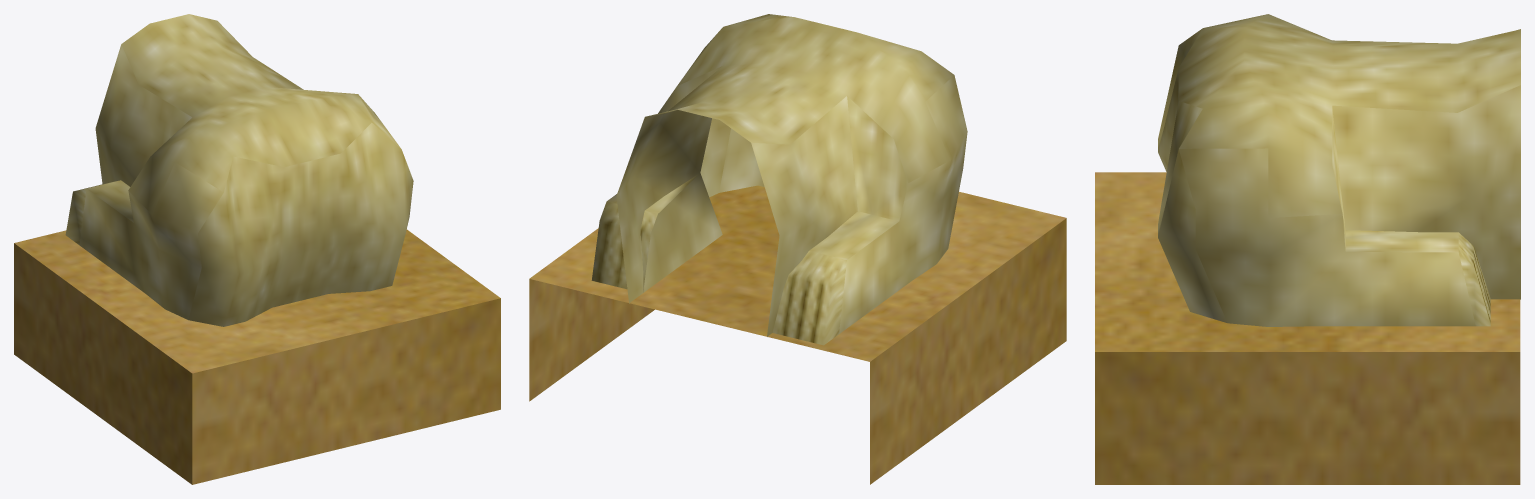
File: egy_sphinx_tail_ns.obj
3 views of the same model, side by side, from view 1: azimuth 30°, elevation 25°; view 2: azimuth 150°, elevation 25°; view 3: azimuth 270°, elevation 25° (orthographic). The views are drawn at different scales.
Parts seen in each view (by area): view 1: tile_boundary02; view 2: tile_boundary02; view 3: tile_boundary02.
Part boxes in pixels (x1=…): tile_boundary02: x1=14, y1=14, x2=500, y2=484; tile_boundary02: x1=529, y1=14, x2=1066, y2=484; tile_boundary02: x1=1095, y1=14, x2=1520, y2=484.
Bounding box in the file's own units: 1 × 0.9213 × 1.
